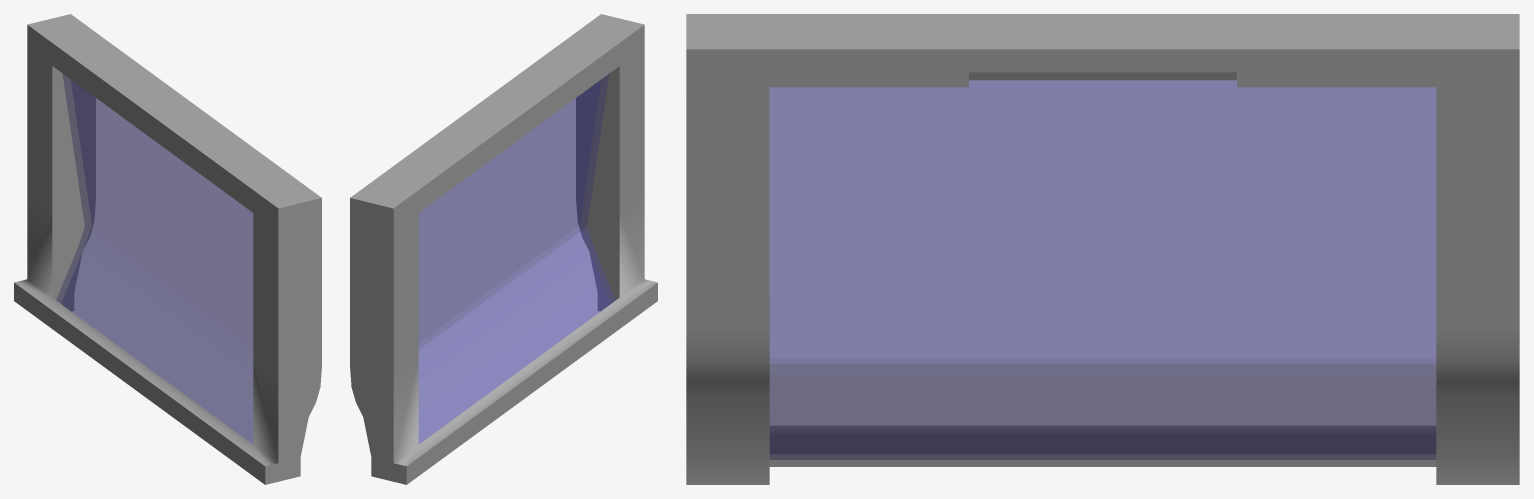
Rendered from Prop_wall_new.fbx.
3 renders of one model, left to right at view 1: azimuth 30°, elevation 25°; view 2: azimuth 150°, elevation 25°; view 3: azimuth 270°, elevation 25°, orthographic. The views are drawn at different scales.
Visible parts, largest first — view 1: polySurface26, polySurface27; view 2: polySurface26, polySurface27; view 3: polySurface27, polySurface26.
Boxes of the visible parts, left/top/right/bottom form: polySurface26: left=14, top=14, right=321, bottom=484; polySurface27: left=56, top=74, right=253, bottom=443; polySurface26: left=350, top=14, right=657, bottom=484; polySurface27: left=418, top=74, right=615, bottom=443; polySurface27: left=769, top=80, right=1436, bottom=459; polySurface26: left=686, top=14, right=1519, bottom=484.
Size of the model in its own units: 130 by 600 by 1000.
